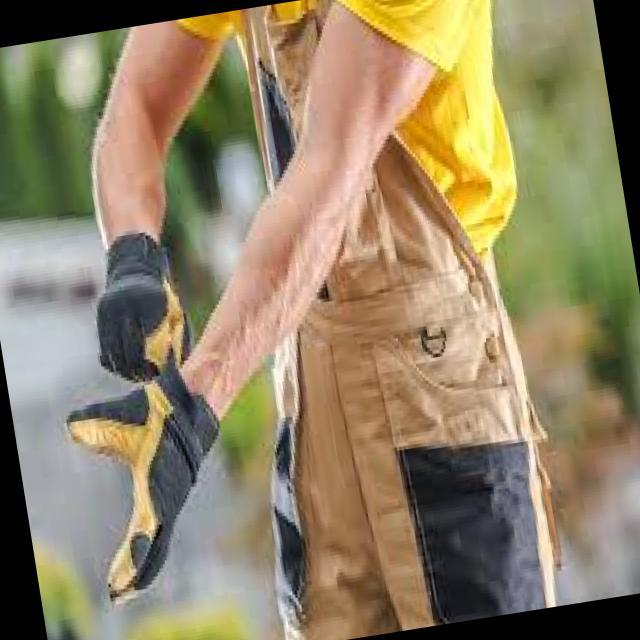gloved: (56, 338, 245, 603), (80, 223, 198, 387)
